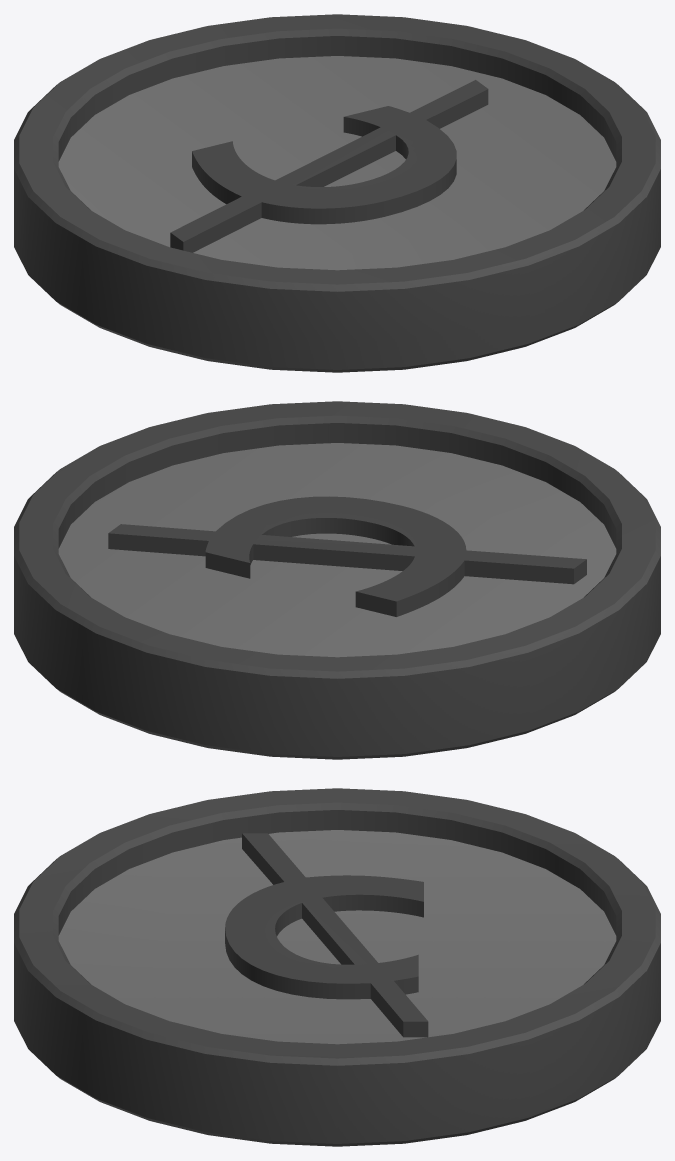
Rendered from Coin.fbx.
The picture shows the model from 3 angles, top to bottom: view 1: azimuth 30°, elevation 25°; view 2: azimuth 150°, elevation 25°; view 3: azimuth 270°, elevation 25°; orthographic projection.
Parts seen in each view (by area): view 1: Coin; view 2: Coin; view 3: Coin.
Part boxes in pixels (left/top/right/bottom): Coin: left=14, top=14, right=660, bottom=372; Coin: left=14, top=401, right=660, bottom=759; Coin: left=14, top=788, right=660, bottom=1146.
Size of the model in its own units: 0.2038 by 0.0305 by 0.2027.
